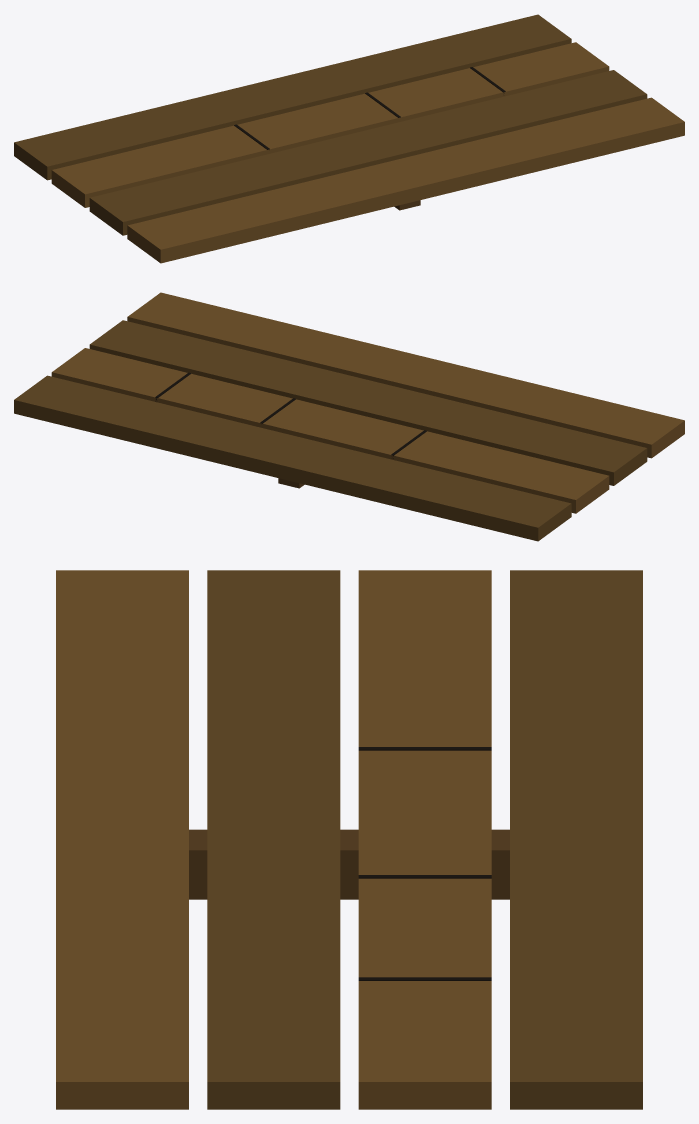
File: wood_plank_cracked.obj
The picture shows the model from 3 angles, top to bottom: view 1: azimuth 30°, elevation 25°; view 2: azimuth 150°, elevation 25°; view 3: azimuth 270°, elevation 25°; orthographic projection. The views are drawn at different scales.
Visible parts, largest first — view 1: box_3, box_2, box_0, box_1; view 2: box_0, box_2, box_3, box_1; view 3: box_2, box_0, box_3, box_1, box_7.
Part boxes in pixels (left/top/right/bottom): box_3: left=127, top=97, right=684, bottom=263; box_2: left=89, top=70, right=647, bottom=235; box_0: left=14, top=14, right=571, bottom=180; box_1: left=51, top=42, right=609, bottom=207; box_0: left=14, top=375, right=571, bottom=541; box_2: left=89, top=320, right=647, bottom=485; box_3: left=127, top=292, right=684, bottom=458; box_1: left=51, top=348, right=609, bottom=513; box_2: left=207, top=570, right=340, bottom=1109; box_0: left=510, top=570, right=642, bottom=1109; box_3: left=56, top=570, right=188, bottom=1109; box_1: left=358, top=570, right=491, bottom=1109; box_7: left=189, top=829, right=509, bottom=899.
Size of the model in its own units: 2 by 0.117 by 0.97.
